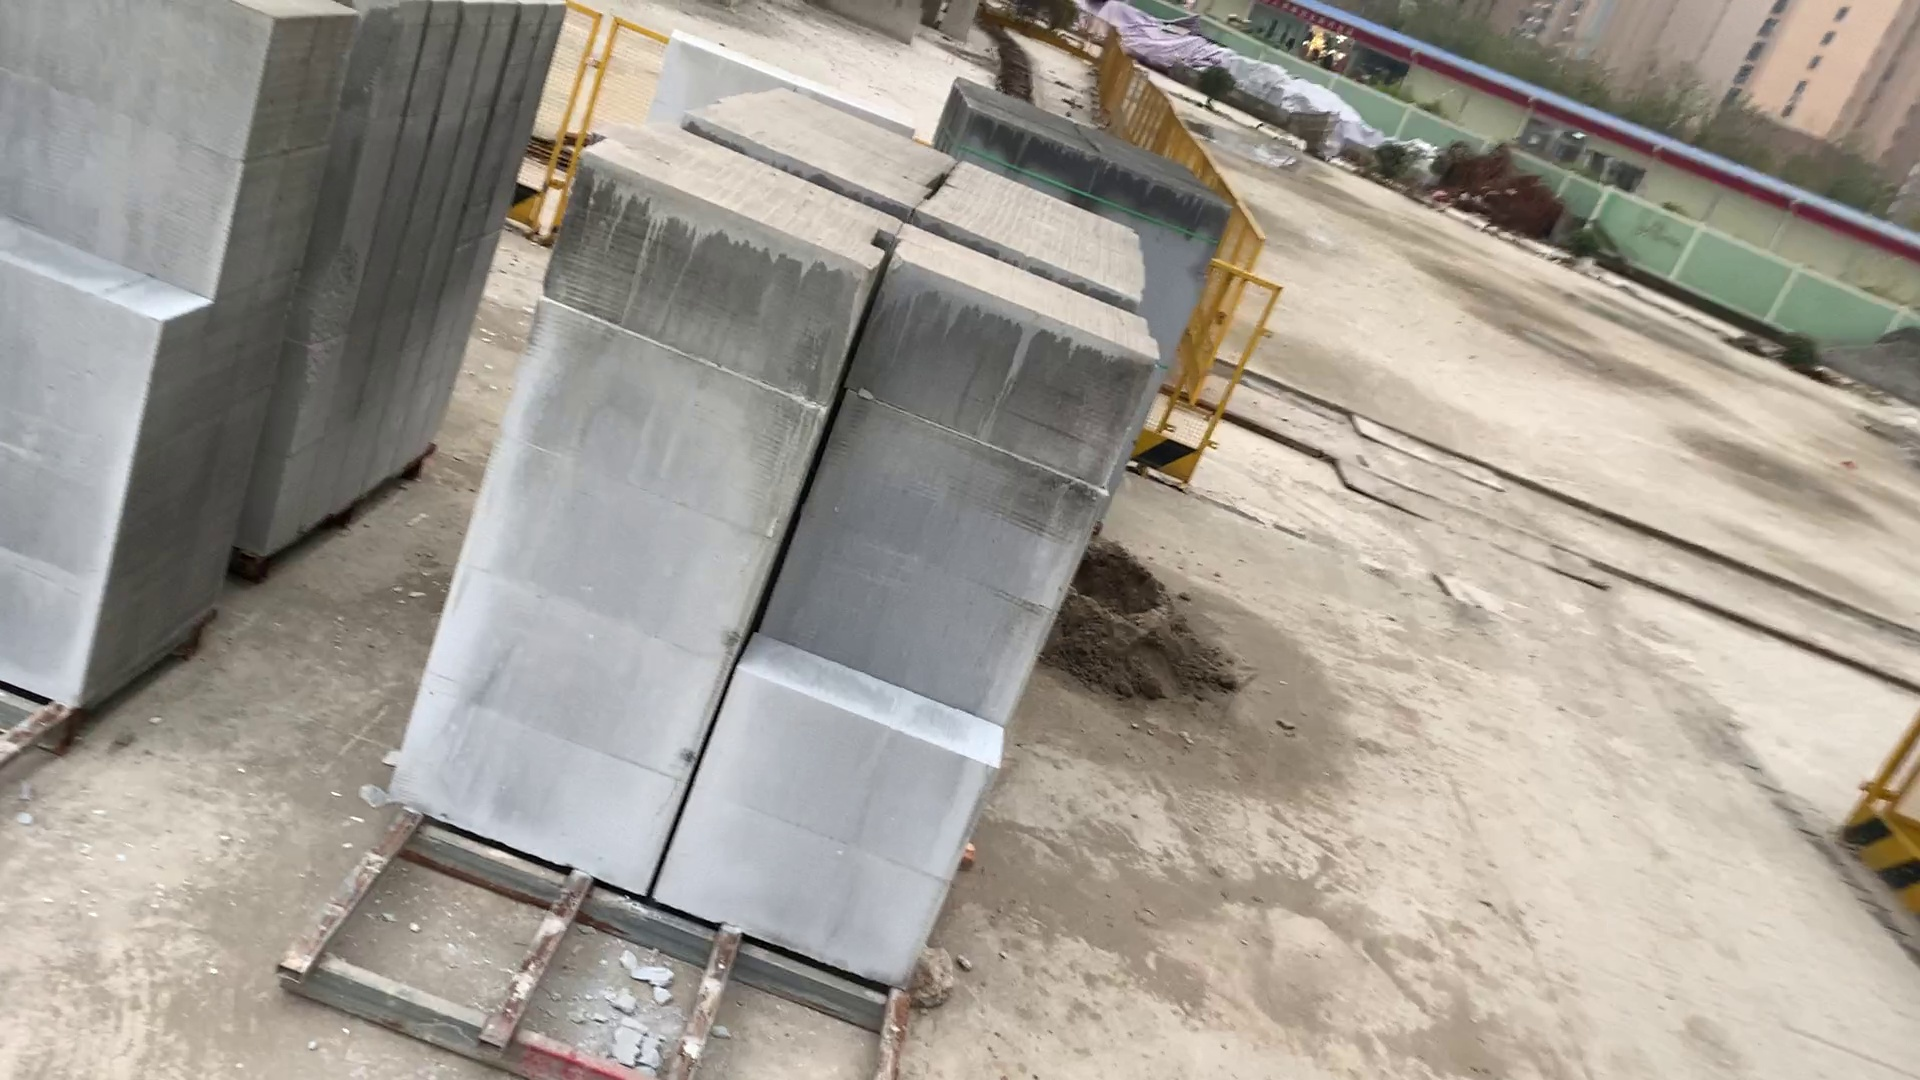brickwork: (384, 127, 1149, 976), (4, 3, 342, 731), (253, 1, 560, 589), (945, 69, 1237, 223)
